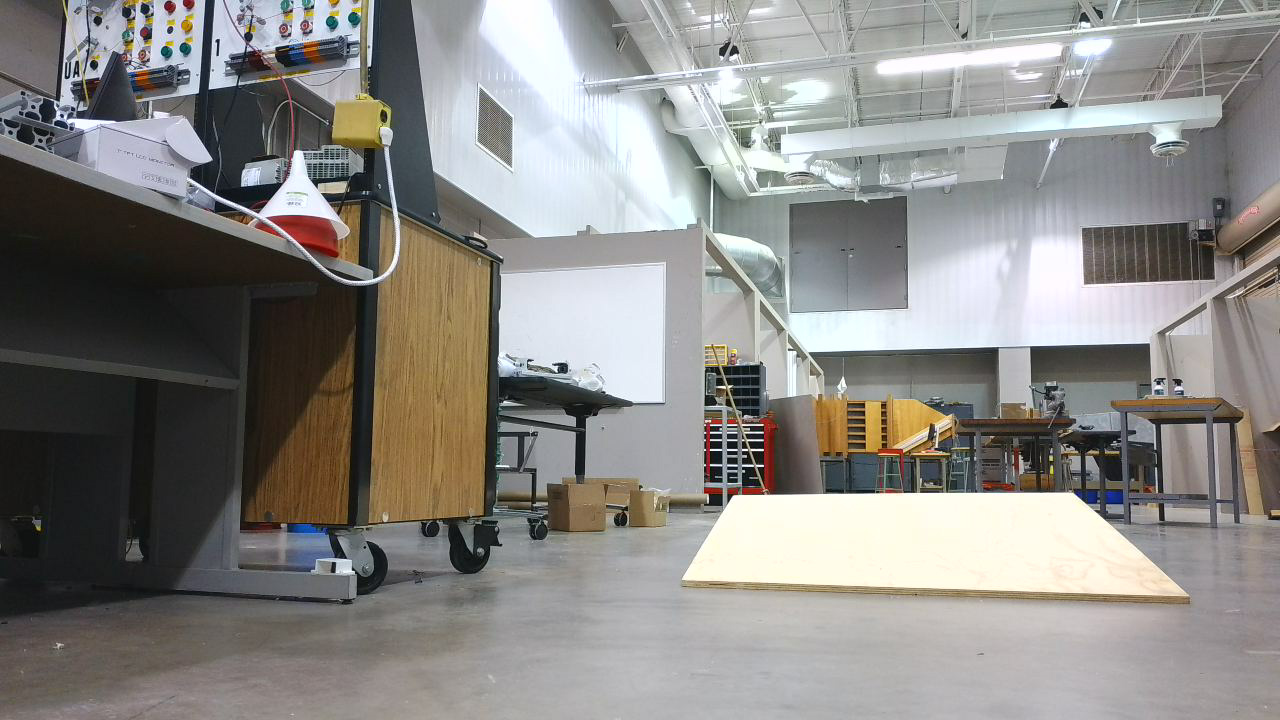ramp: (684, 493, 1198, 612)
